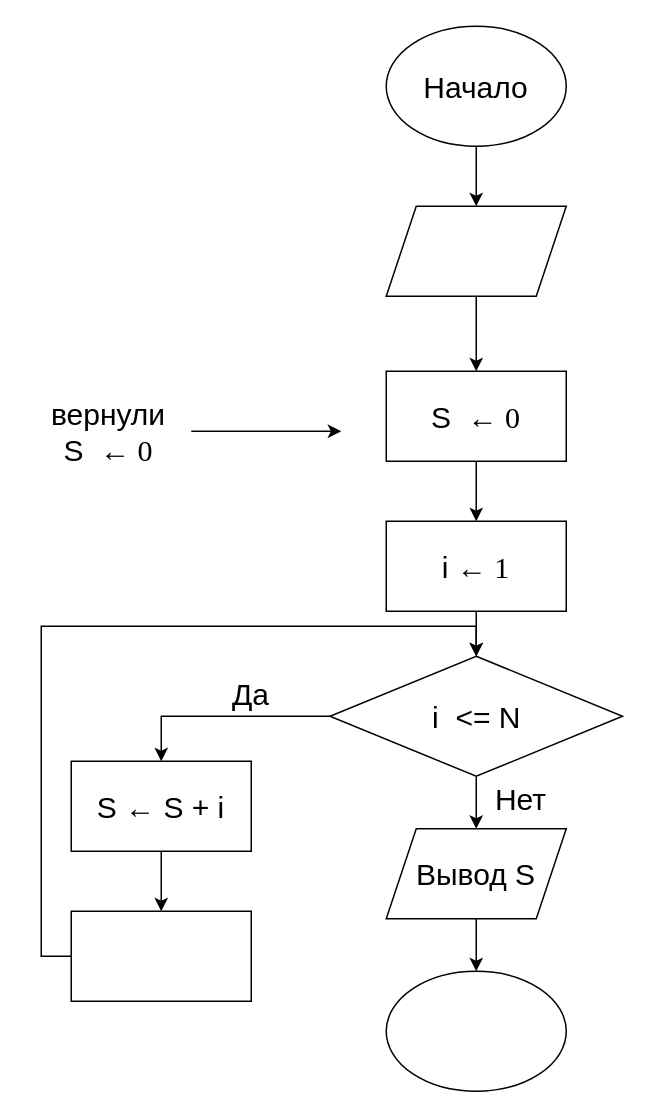
Image size: 648x1118. Some labels were removed from this diagram. The shapes that lost their labels are listed below. From the top down, each one's centre as x and y in pixels, then its label:
the point at 475,250: Ввод N
the point at 160,955: i ← i + 1
the point at 475,1030: Конец
